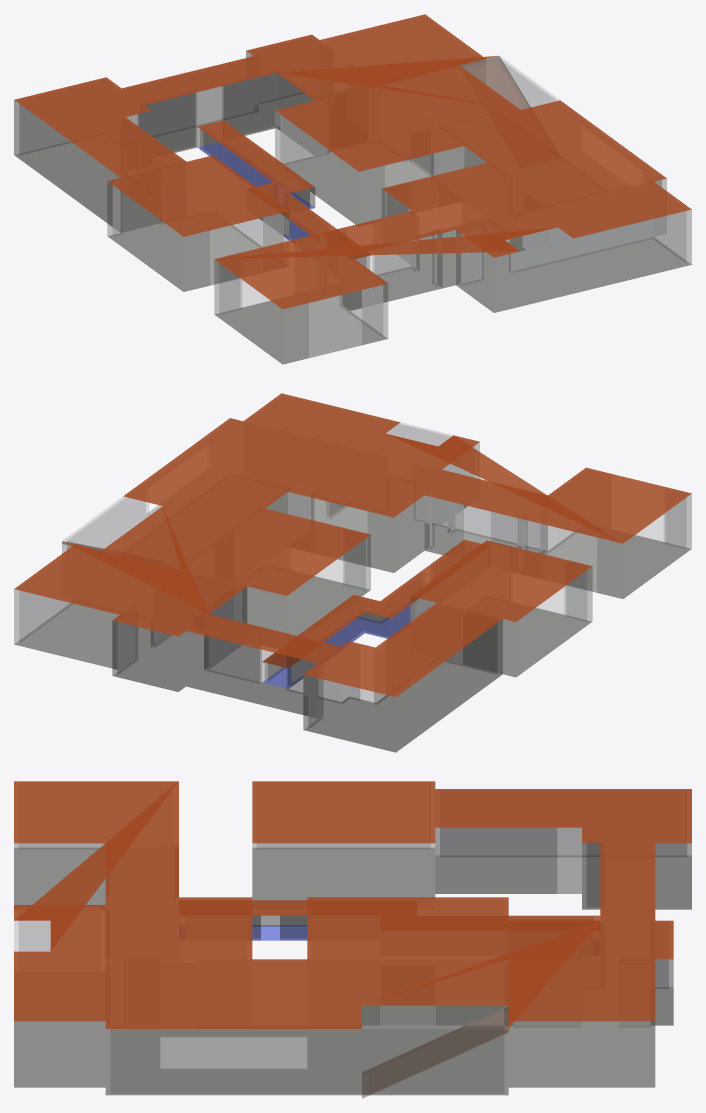
File: BoomJam2026_level.fbx
3 views of the same model, one above another, from view 1: azimuth 30°, elevation 25°; view 2: azimuth 150°, elevation 25°; view 3: azimuth 270°, elevation 25° (orthographic). The views are drawn at different scales.
Parts seen in each view (by area): view 1: layer_cap_default-, wall_220ec61e, fill_220ec61e, wall_76c2dd5c, Mesh, fill_583035df; view 2: layer_cap_default-, fill_220ec61e, wall_220ec61e, wall_76c2dd5c, fill_583035df; view 3: layer_cap_default-, fill_220ec61e, wall_220ec61e, wall_76c2dd5c, Mesh, fill_583035df.
Boxes of the visible parts, left/top/right/bottom form: layer_cap_default-: left=14, top=14, right=691, bottom=309; wall_220ec61e: left=107, top=57, right=691, bottom=363; fill_220ec61e: left=14, top=92, right=691, bottom=364; wall_76c2dd5c: left=14, top=51, right=369, bottom=269; Mesh: left=460, top=56, right=530, bottom=109; fill_583035df: left=197, top=142, right=314, bottom=240; layer_cap_default-: left=14, top=393, right=691, bottom=696; fill_220ec61e: left=14, top=492, right=690, bottom=752; wall_220ec61e: left=14, top=423, right=691, bottom=676; wall_76c2dd5c: left=112, top=587, right=502, bottom=752; fill_583035df: left=262, top=606, right=409, bottom=688; layer_cap_default-: left=14, top=781, right=691, bottom=1028; fill_220ec61e: left=14, top=848, right=691, bottom=1094; wall_220ec61e: left=14, top=843, right=654, bottom=1094; wall_76c2dd5c: left=252, top=827, right=691, bottom=1025; Mesh: left=362, top=1006, right=508, bottom=1098; fill_583035df: left=252, top=925, right=307, bottom=940.
Bounding box in the file's own units: 640 × 84 × 740.
